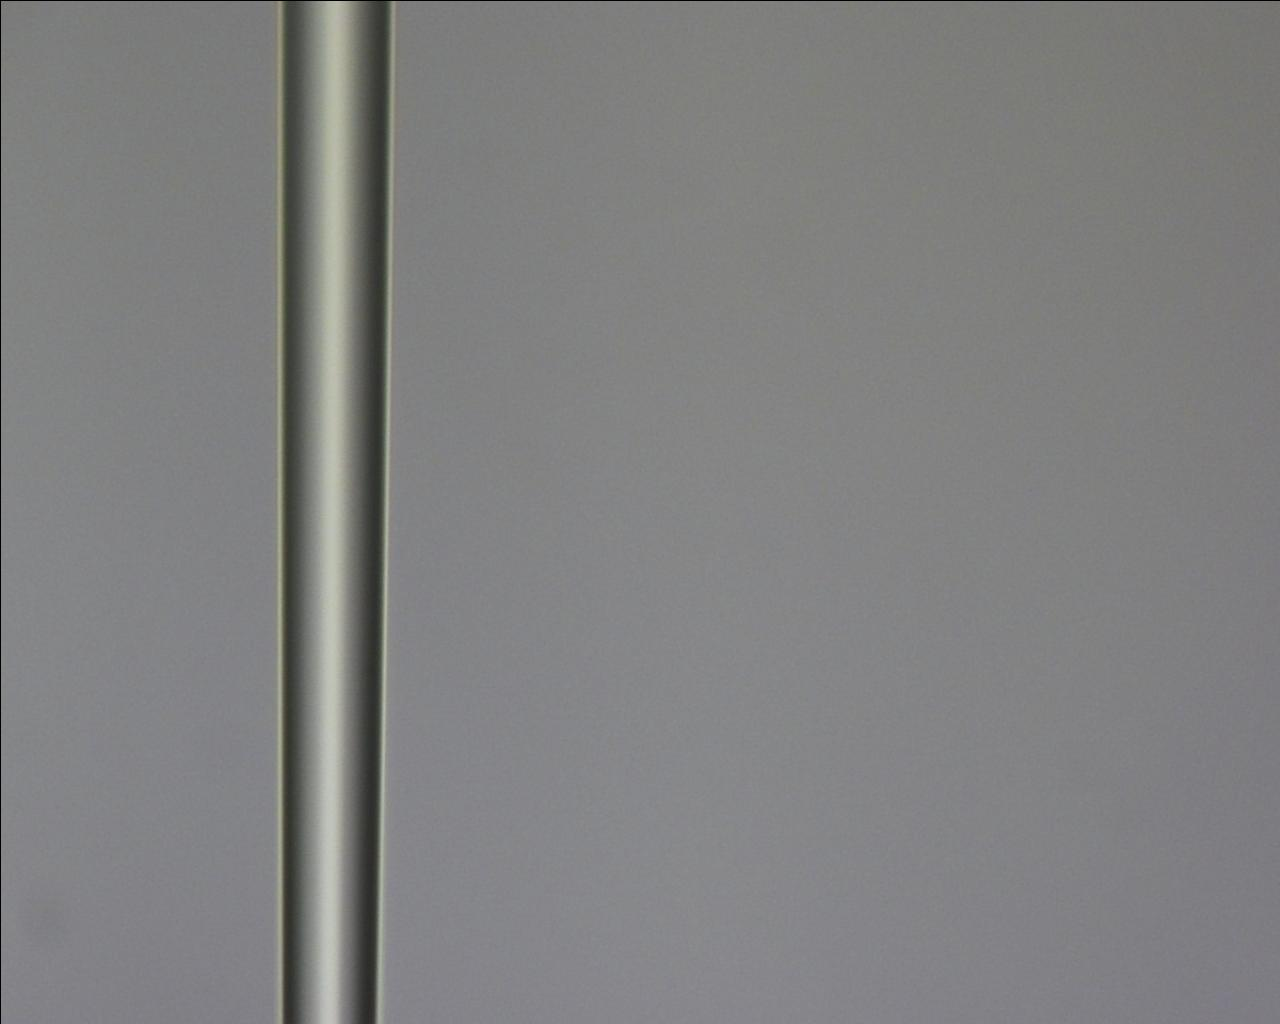fiber: (580, 292, 1280, 471), (569, 946, 1280, 999)
